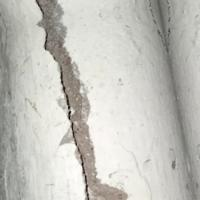crack: (24, 0, 117, 199)
